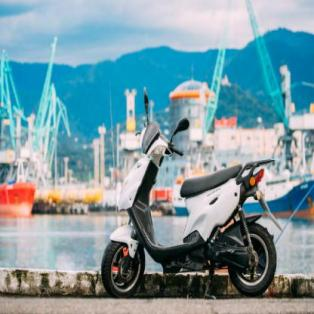Motocicleta: (99, 86, 281, 301)
